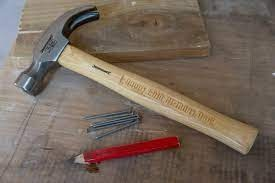hammer: (12, 4, 260, 154)
